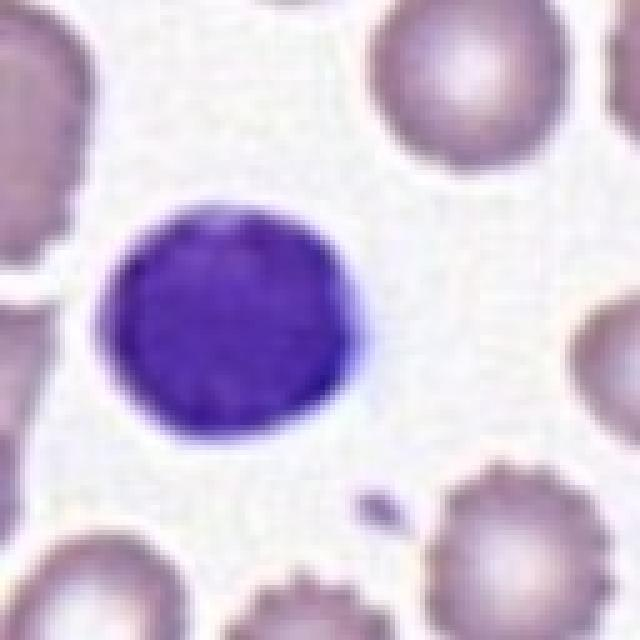lympho: (90, 195, 376, 446)
